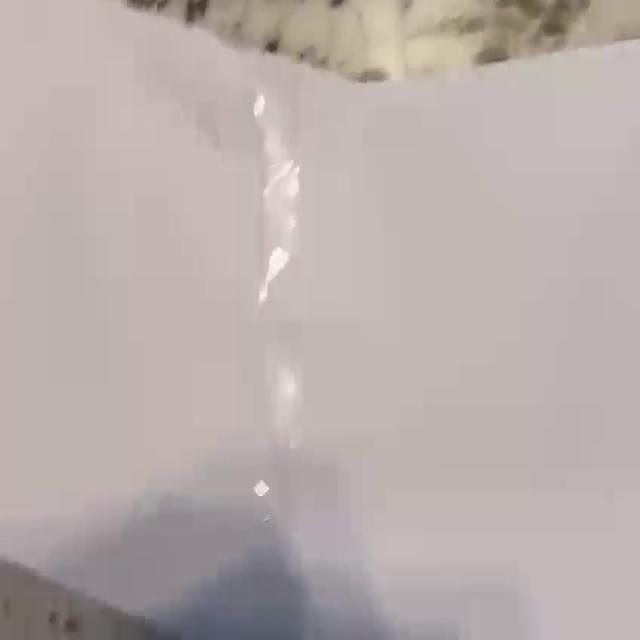road: (0, 2, 640, 638)
